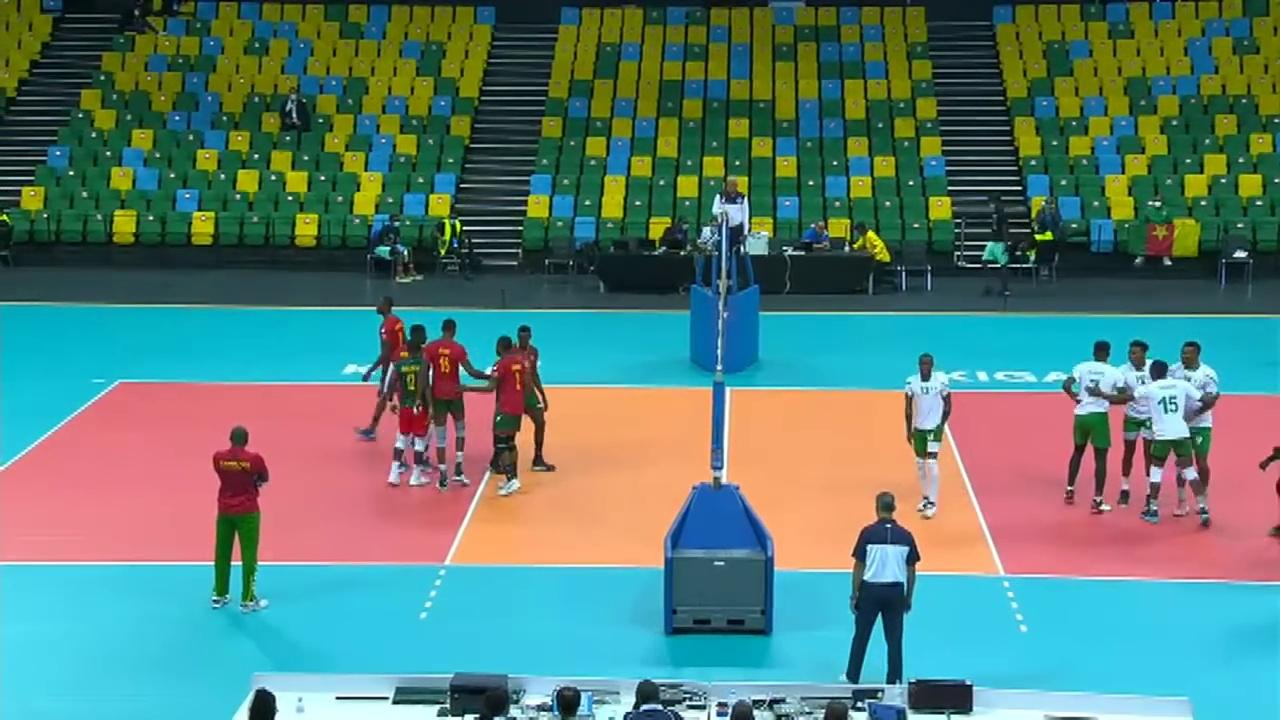player: (1064, 340, 1135, 508), (420, 323, 489, 489), (1168, 341, 1221, 514), (900, 353, 954, 519), (348, 298, 411, 438), (1137, 360, 1191, 519), (504, 321, 554, 470), (1119, 331, 1160, 512), (394, 316, 438, 474), (491, 331, 530, 498), (393, 339, 434, 491)
refree: (843, 495, 921, 689), (710, 175, 749, 276)
